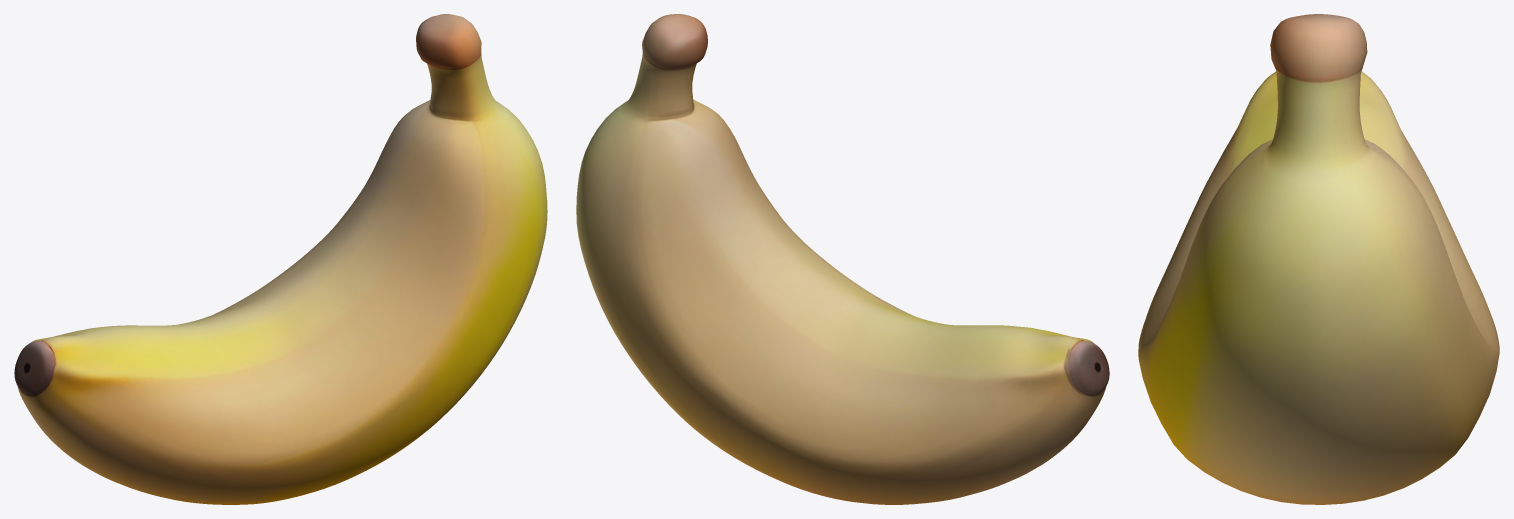
The model's file is banana.glb.
The picture shows the model from 3 angles, left to right: view 1: azimuth 30°, elevation 25°; view 2: azimuth 150°, elevation 25°; view 3: azimuth 270°, elevation 25°; orthographic projection. The views are drawn at different scales.
Parts seen in each view (by area): view 1: tripo_node_638aef04; view 2: tripo_node_638aef04; view 3: tripo_node_638aef04.
Boxes of the visible parts, x1=… form: tripo_node_638aef04: x1=14, y1=14, x2=547, y2=504; tripo_node_638aef04: x1=576, y1=14, x2=1109, y2=504; tripo_node_638aef04: x1=1138, y1=14, x2=1499, y2=504.
Bounding box in the file's own units: 100 × 77.91 × 44.73.
1 material, 1 textured.
